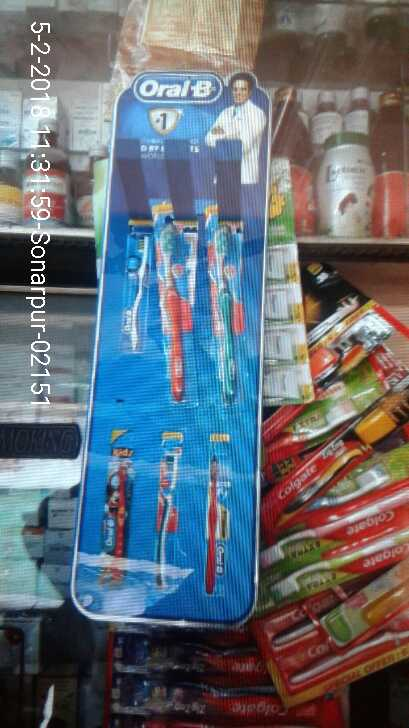oralb: (146, 195, 198, 403), (203, 198, 250, 404)
